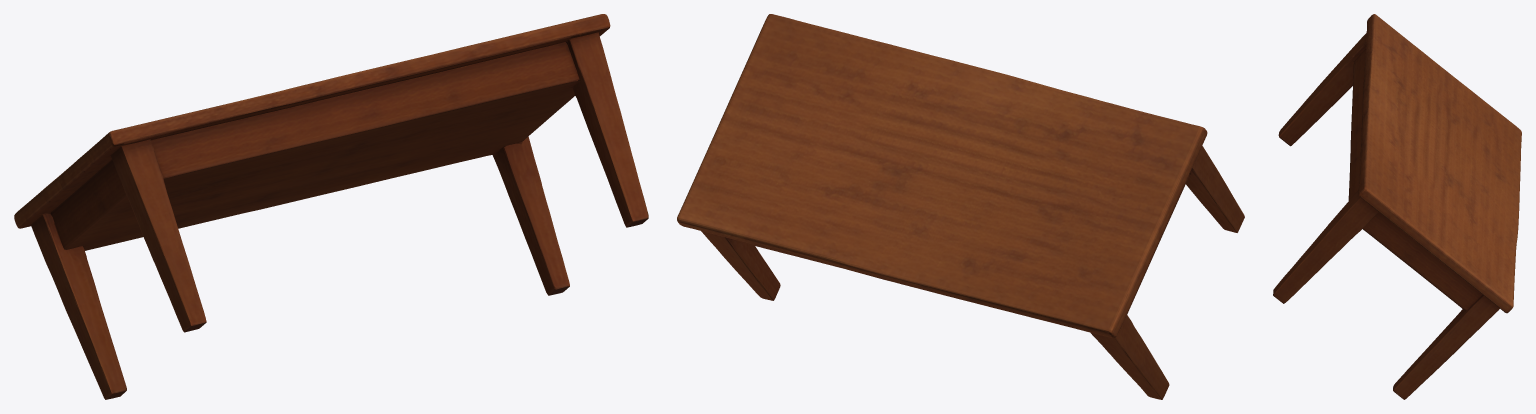
Rendered from table_1.glb.
3 renders of one model, left to right at view 1: azimuth 30°, elevation 25°; view 2: azimuth 150°, elevation 25°; view 3: azimuth 270°, elevation 25°, orthographic. The views are drawn at different scales.
Visible parts, largest first — view 1: world; view 2: world; view 3: world.
Part boxes in pixels (left/top/right/bottom): world: left=14, top=14, right=648, bottom=399; world: left=677, top=14, right=1244, bottom=399; world: left=1273, top=14, right=1521, bottom=399.
Bounding box in the file's own units: 1.64 × 0.9283 × 0.9584.
1 material, 1 textured.
